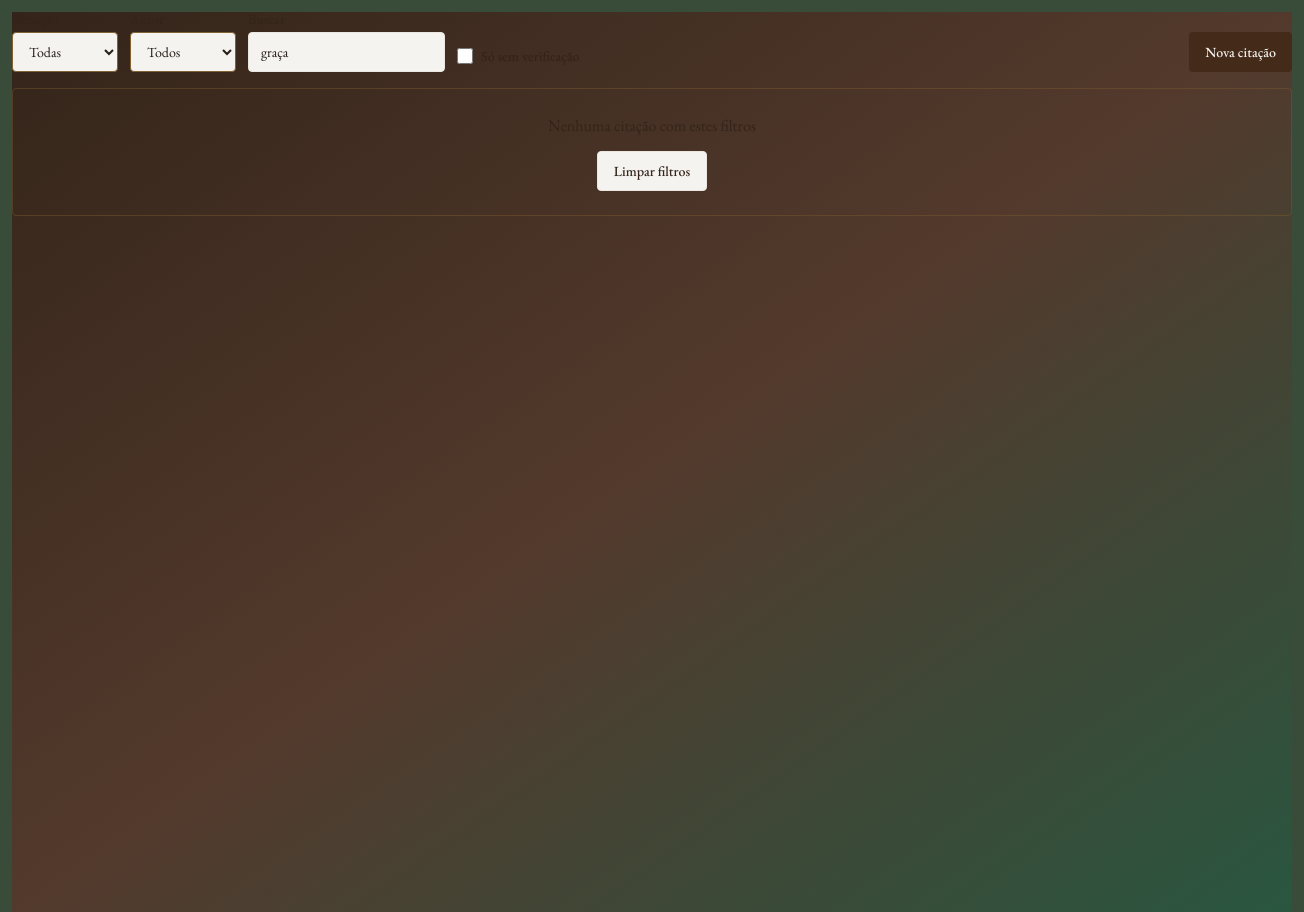
Test case: QuotesLista › Limpar filtros também esvazia a caixa de busca
Check: the field labelled "Buscar" holds "graça", box [248,32,445,72]
Click the button "Limpar filtros" at (652, 171), box [597,151,707,191]
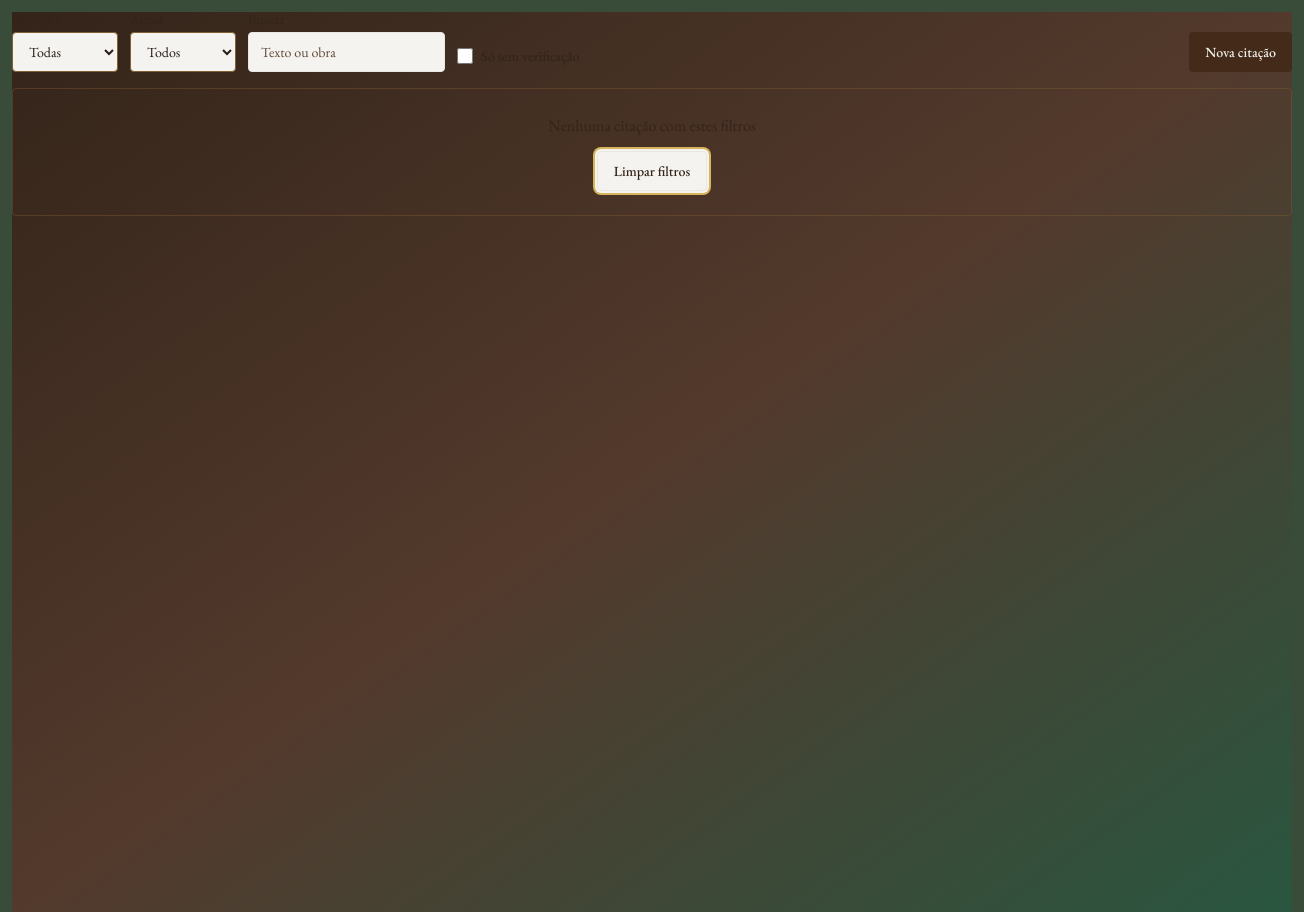
Check: the field labelled "Buscar" is empty, box [248,32,445,72]
